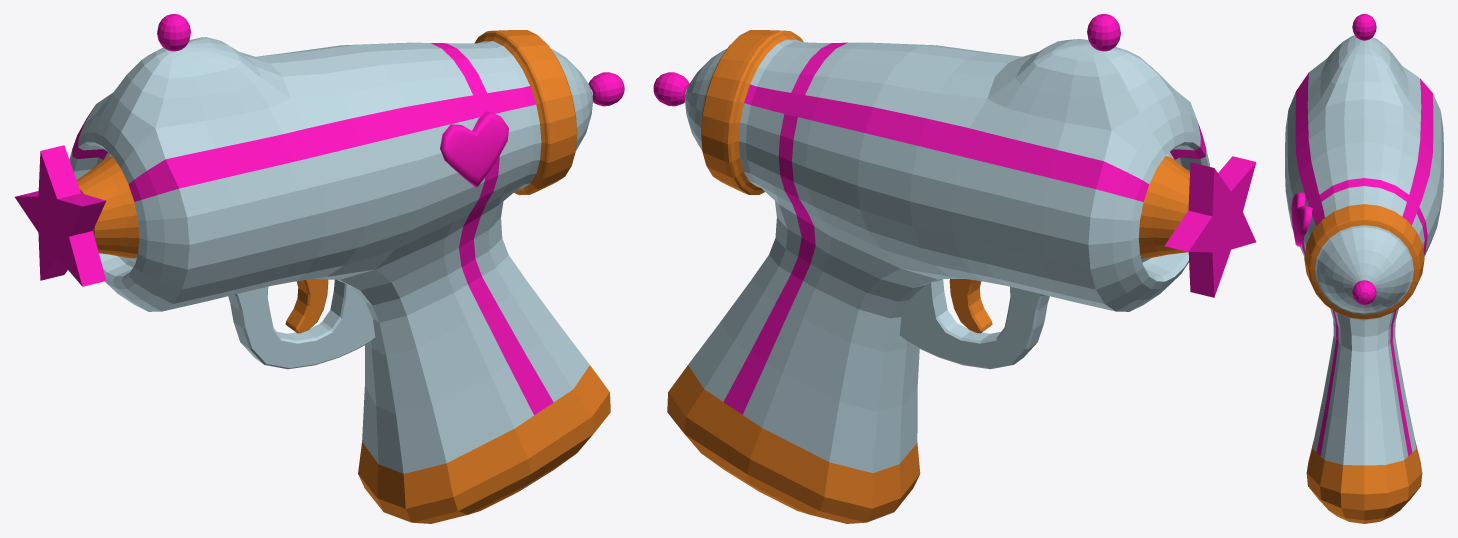
File: pistol.glb
3 renders of one model, left to right at view 1: azimuth 30°, elevation 25°; view 2: azimuth 150°, elevation 25°; view 3: azimuth 270°, elevation 25°, orthographic. The views are drawn at different scales.
Visible parts, largest first — view 1: body; view 2: body; view 3: body.
Part boxes in pixels (x1=…): body: x1=14, y1=14, x2=624, y2=523; body: x1=653, y1=14, x2=1256, y2=523; body: x1=1285, y1=14, x2=1443, y2=523.
Size of the model in its own units: 1.66 by 1.56 by 0.5632.
